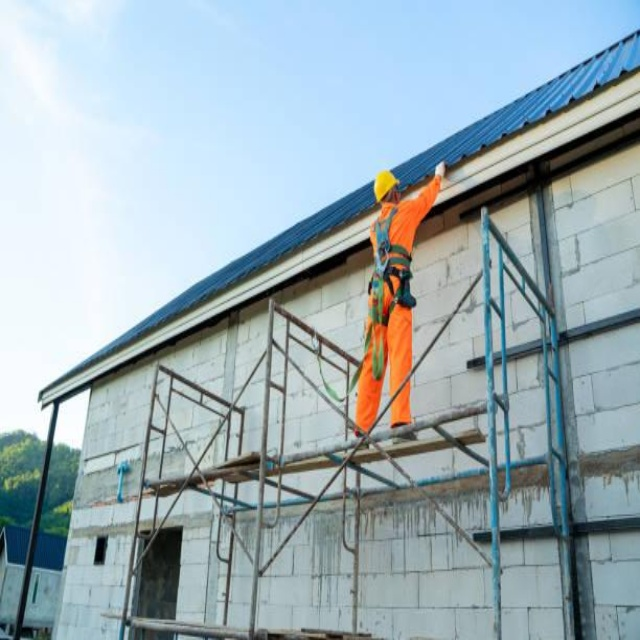Arnes_seguridad: (366, 210, 415, 333)
